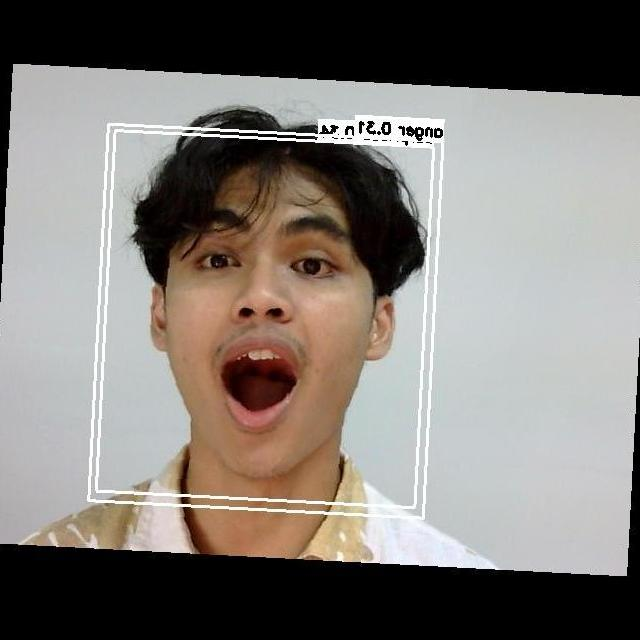Surprised: (151, 191, 367, 445)
